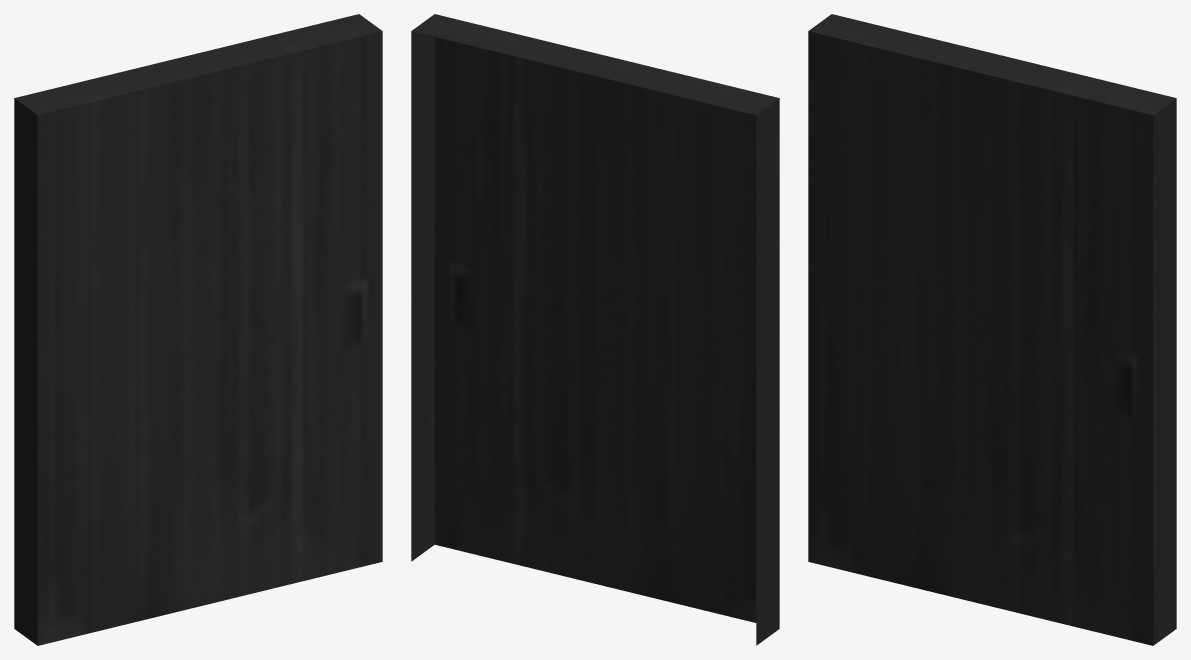
Rendered from BgMD_Door_02_01.fbx.
3 renders of one model, left to right at view 1: azimuth 30°, elevation 25°; view 2: azimuth 150°, elevation 25°; view 3: azimuth 330°, elevation 25°, orthographic.
Visible parts, largest first — view 1: pCube59; view 2: pCube59; view 3: pCube59.
Part boxes in pixels (x1=…): pCube59: x1=14, y1=14, x2=382, y2=645; pCube59: x1=411, y1=14, x2=779, y2=645; pCube59: x1=808, y1=14, x2=1176, y2=645.
Size of the model in its own units: 170 by 250 by 20.
